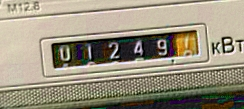0: (59, 43, 73, 63)
1: (84, 42, 95, 61)
2: (108, 40, 122, 61)
4: (133, 38, 145, 58)
7: (180, 31, 193, 50)
9: (156, 37, 170, 58)
screen: (32, 23, 209, 76)
